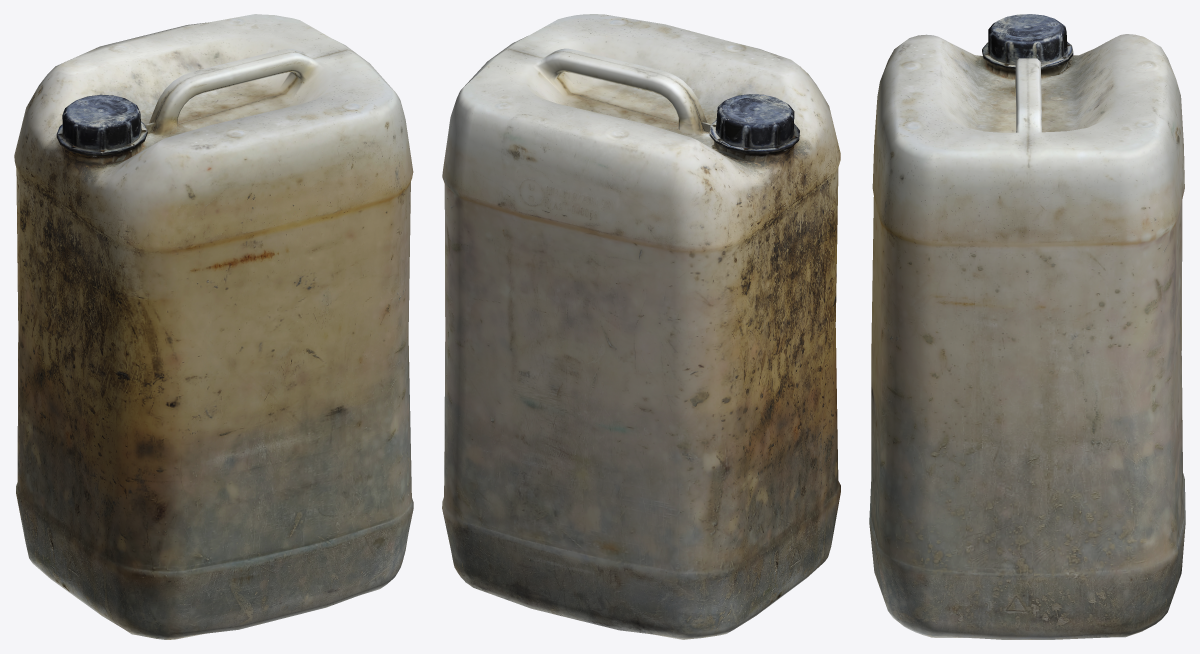
The model's file is SM_kanistra_2.fbx.
3 renders of one model, left to right at view 1: azimuth 30°, elevation 25°; view 2: azimuth 150°, elevation 25°; view 3: azimuth 270°, elevation 25°, orthographic.
Parts seen in each view (by area): view 1: SM_kanistra_2; view 2: SM_kanistra_2; view 3: SM_kanistra_2.
Part boxes in pixels (x1=…): SM_kanistra_2: x1=14, y1=14, x2=413, y2=639; SM_kanistra_2: x1=442, y1=14, x2=840, y2=639; SM_kanistra_2: x1=869, y1=14, x2=1185, y2=639.
Bounding box in the file's own units: 0.3193 × 0.5 × 0.2824.
